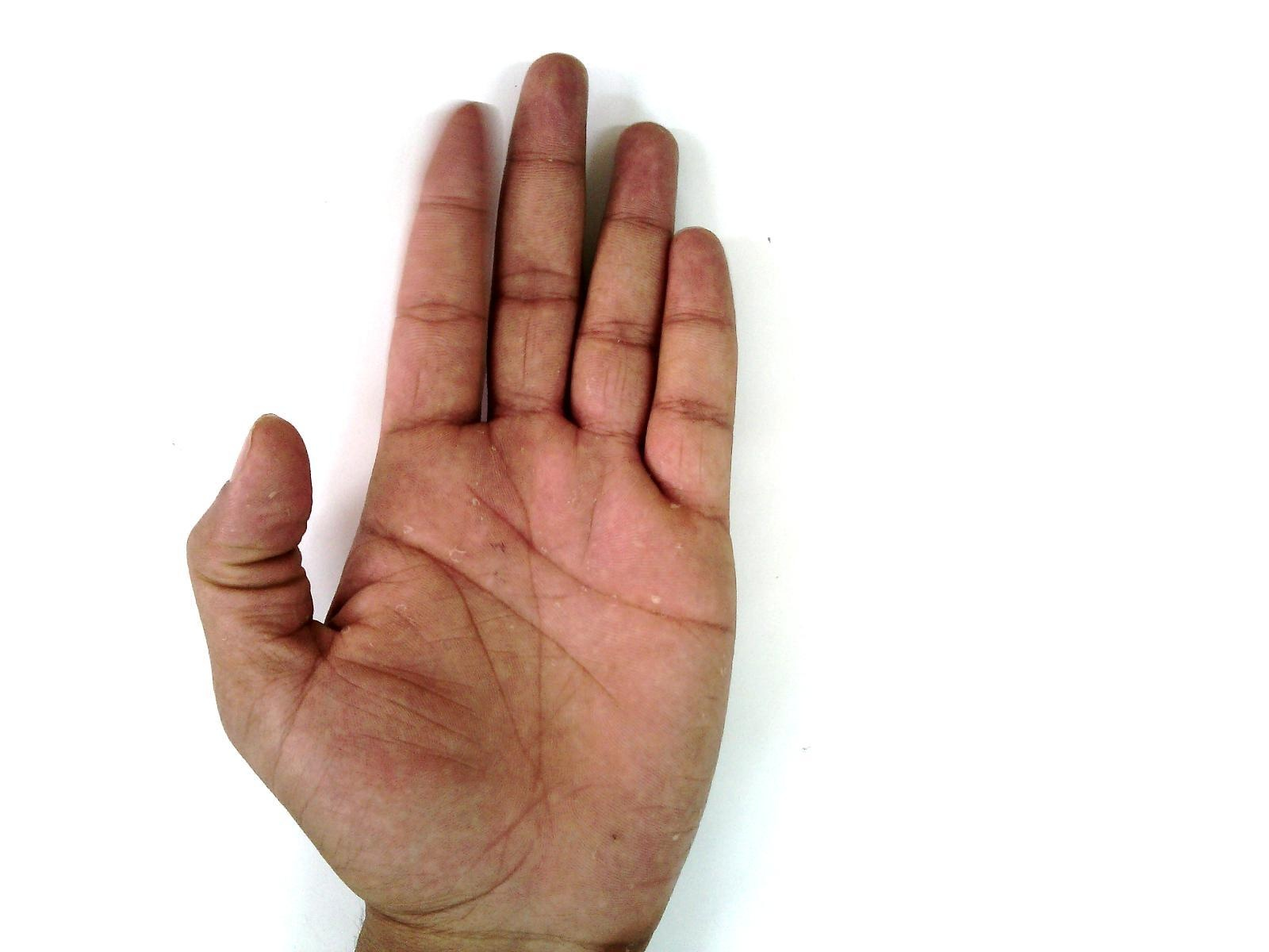open_palm: (185, 52, 744, 949)
